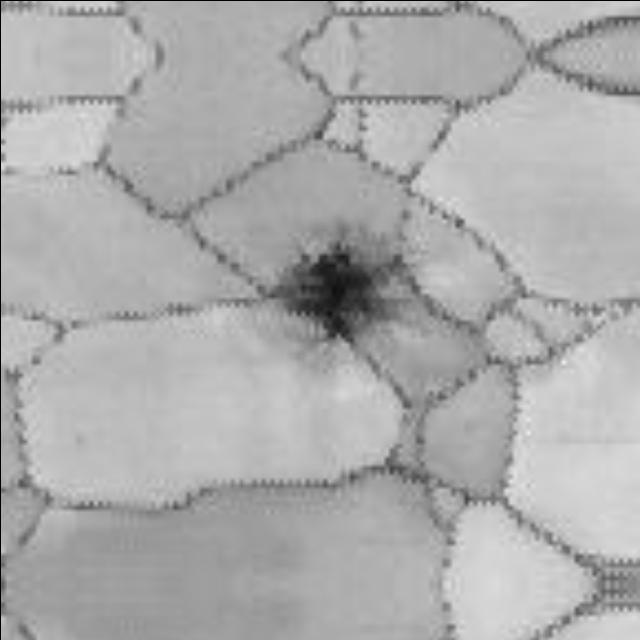good_void: (246, 199, 433, 386)
